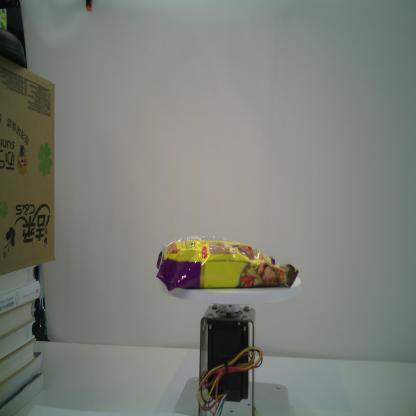Instant Noodles: (151, 232, 300, 296)
